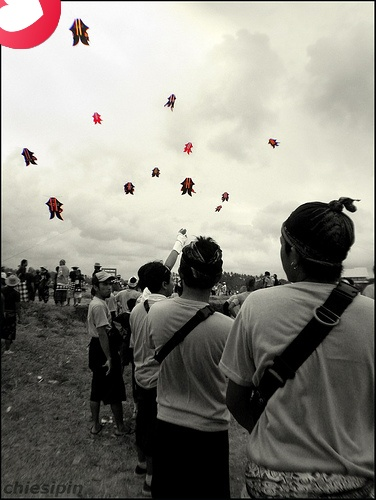love: (0, 0, 61, 49)
